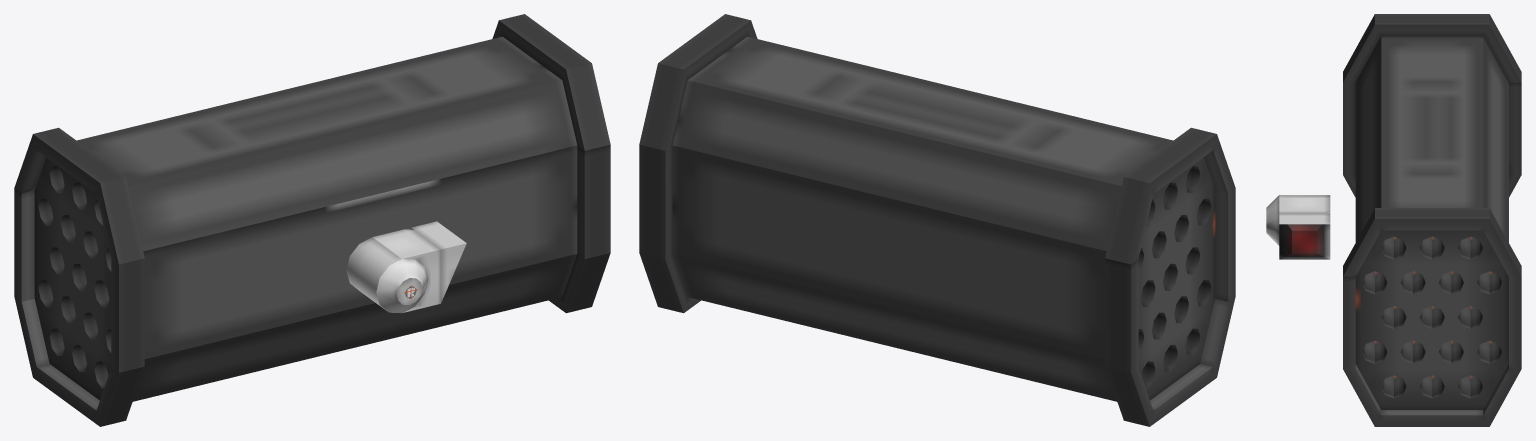
The model's file is turret_richard.obj.
3 views of the same model, side by side, from view 1: azimuth 30°, elevation 25°; view 2: azimuth 150°, elevation 25°; view 3: azimuth 270°, elevation 25° (orthographic). The views are drawn at different scales.
Parts seen in each view (by area): view 1: Launcher; view 2: Launcher; view 3: Launcher.
Part boxes in pixels (x1,y1,x2,y2): Launcher: [14, 14, 610, 426]; Launcher: [639, 14, 1235, 426]; Launcher: [1266, 14, 1521, 426].
Size of the model in its own units: 2.38 by 1.12 by 1.26.
